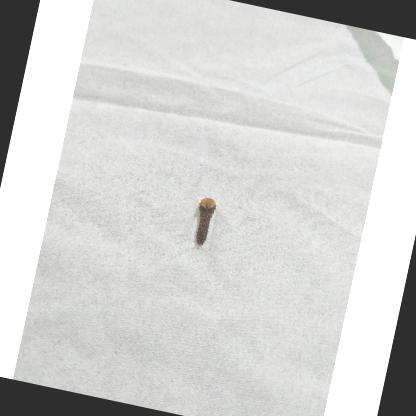sedang: (194, 198, 216, 248)
